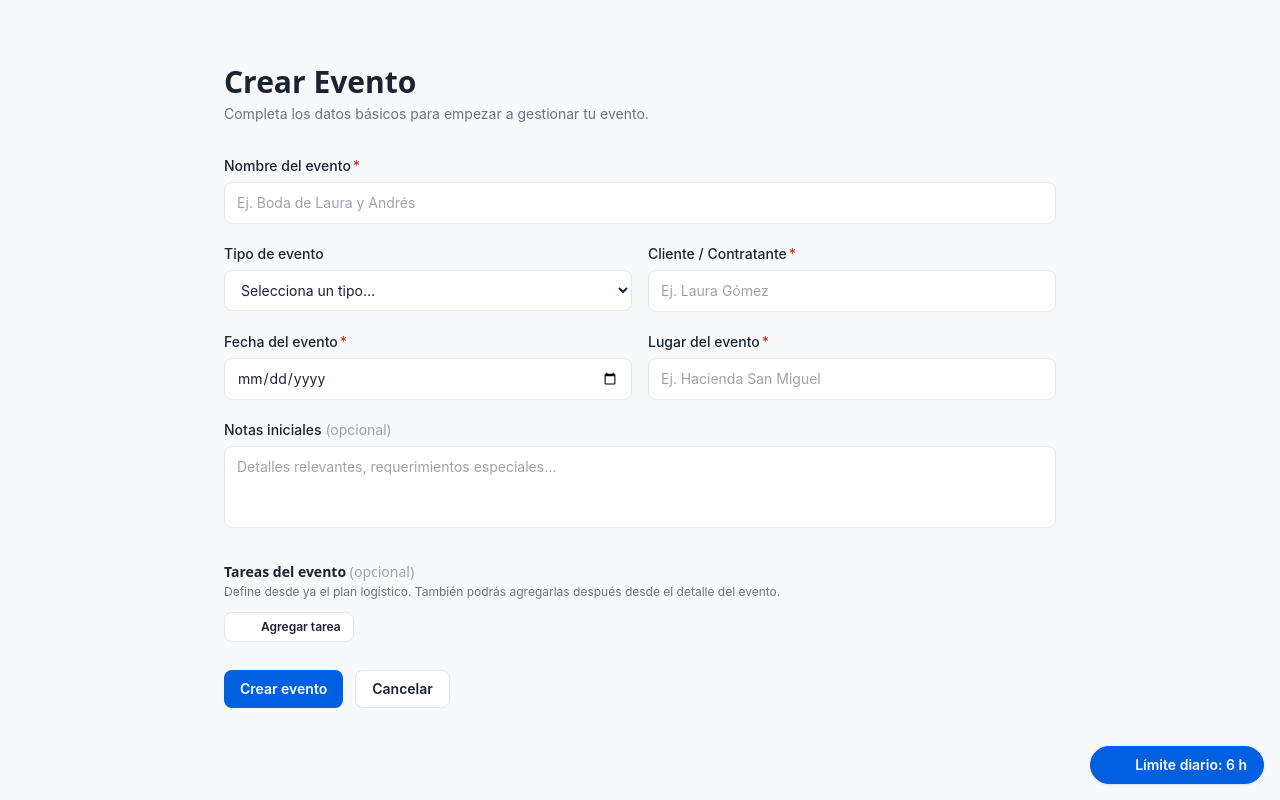
Test: CreatePage › muestra errores de validación devueltos por el backend
In the field labelled "Nombre del evento*": (640, 203) [224,182,1056,224], type "Boda"
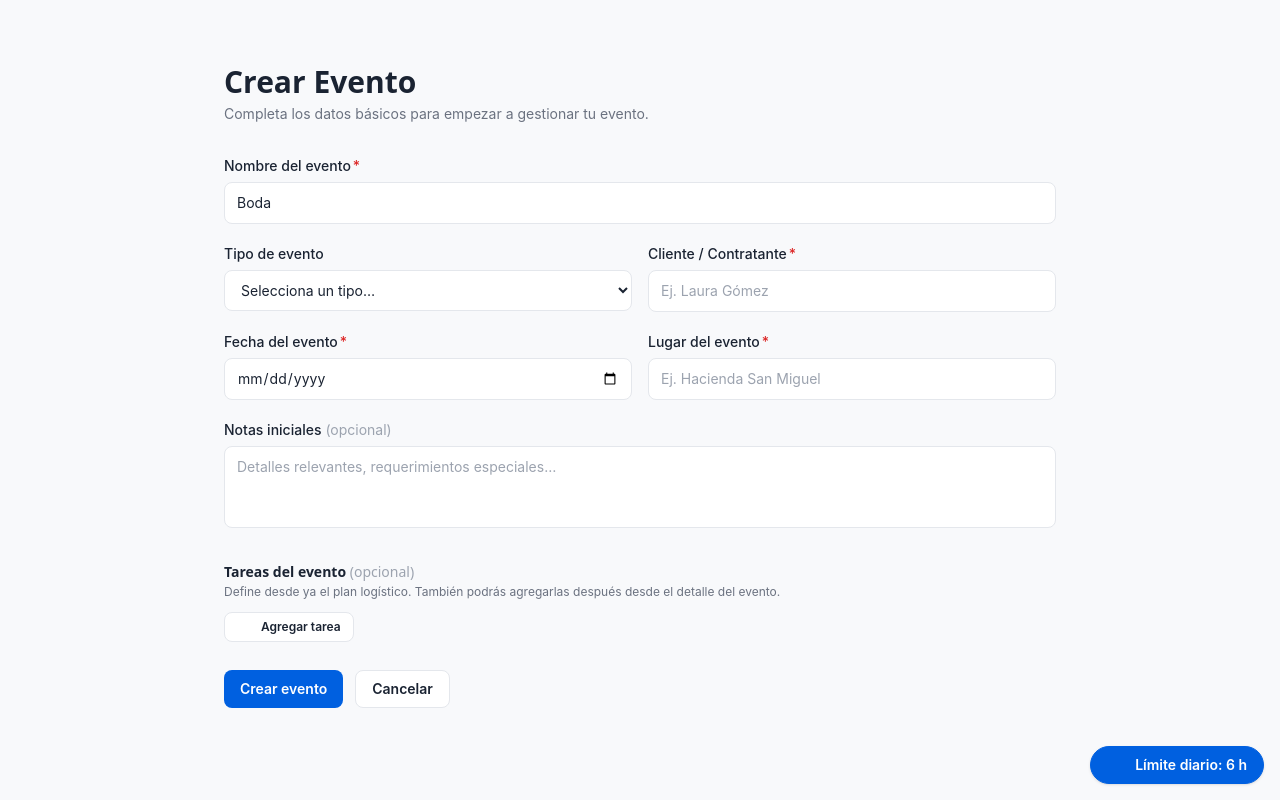
In the field labelled "Cliente / Contratante*": (852, 291) [648,270,1056,312], type "Ana"
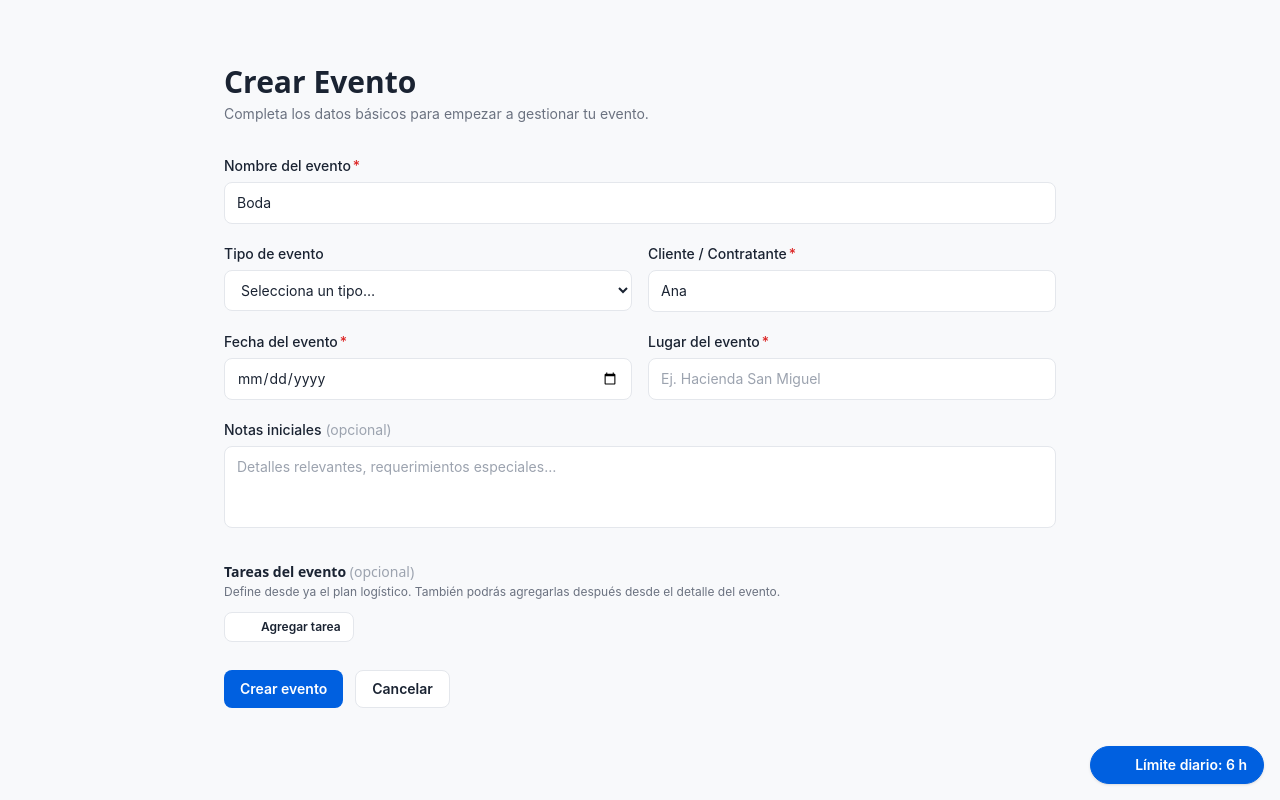
In the date field labelled "Fecha del evento*": (428, 379) [224,358,632,400], type "2099-12-01"
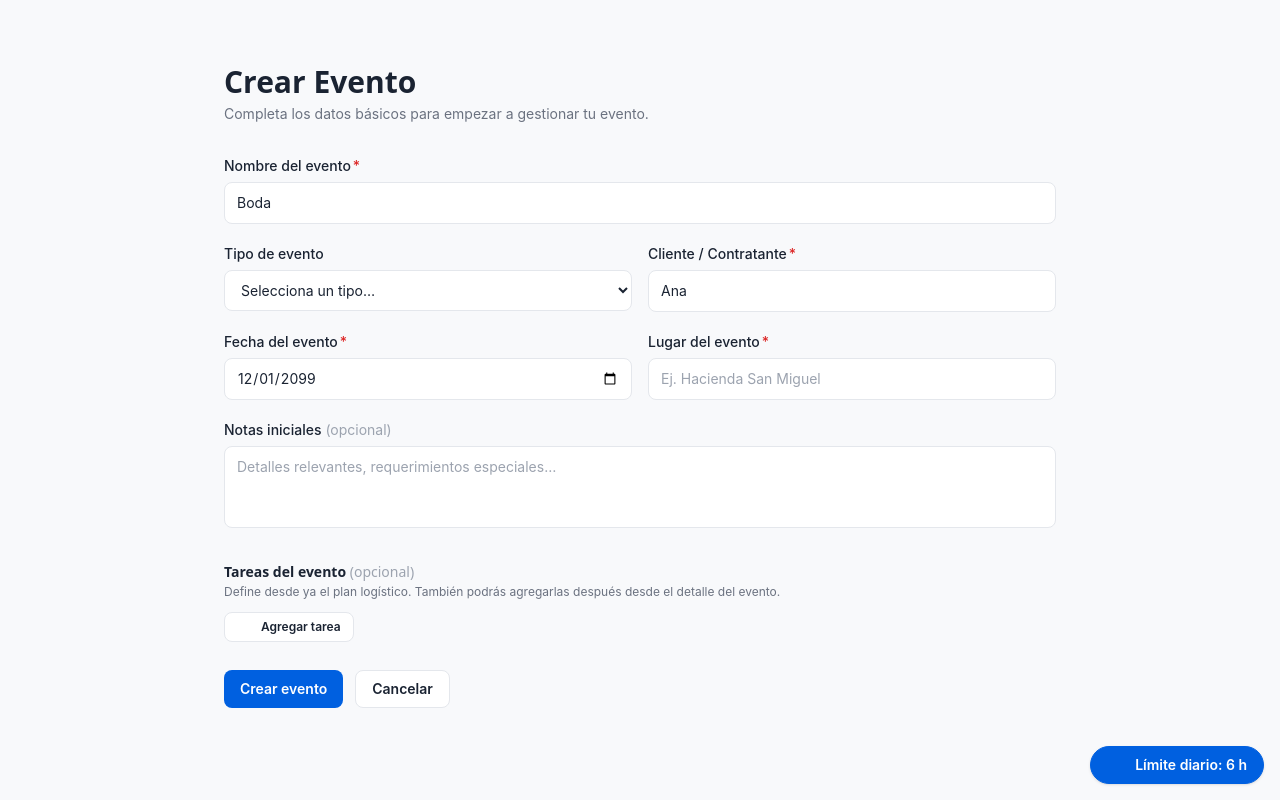
In the field labelled "Lugar del evento*": (852, 379) [648,358,1056,400], type "Hacienda"
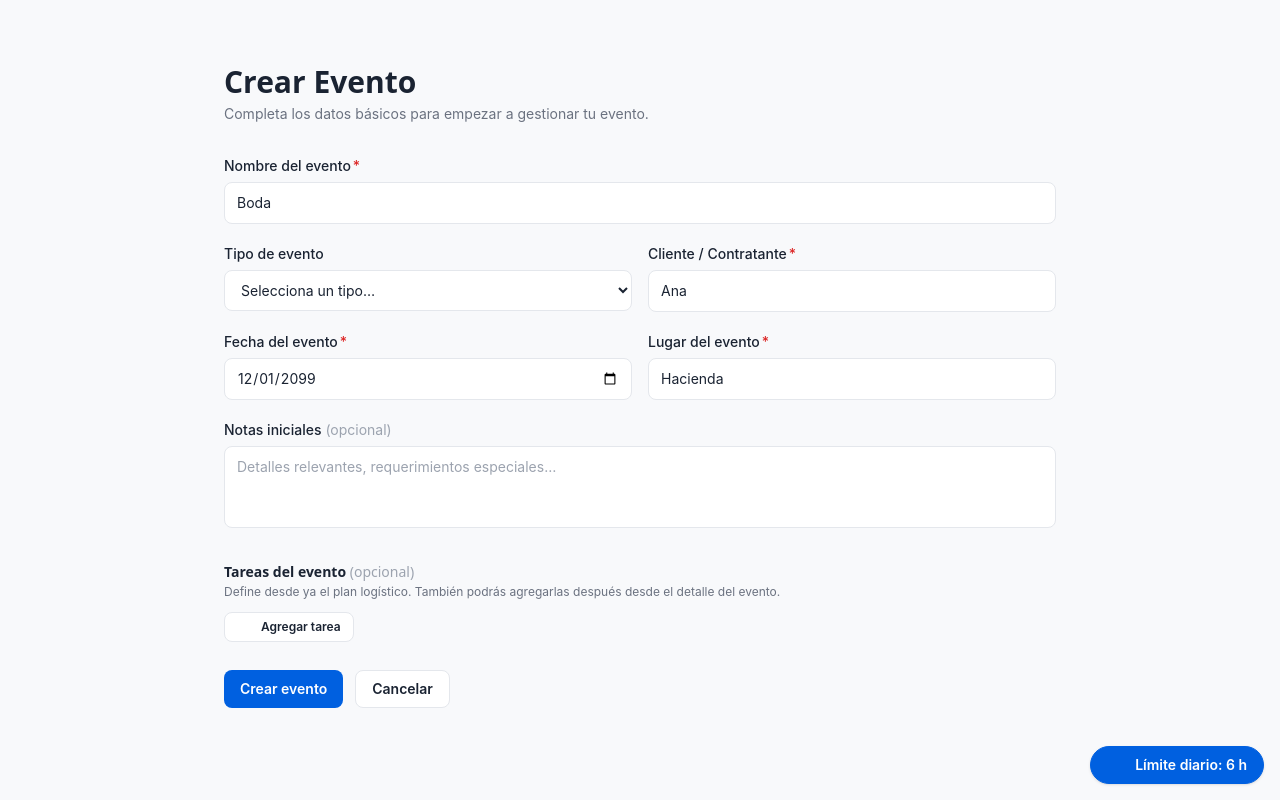
Click the button "Crear evento": (284, 689) [224,670,343,708]
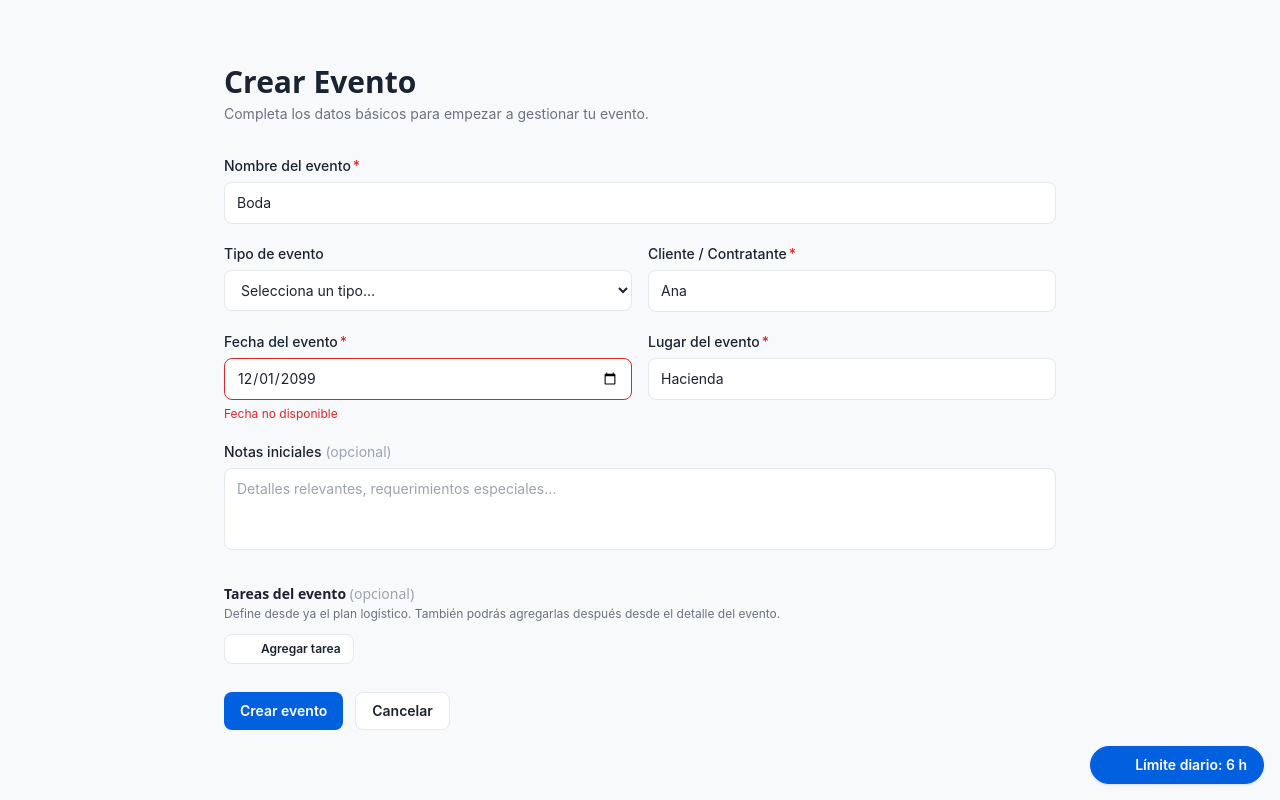
Result: the text "Fecha no disponible" is shown at [224,406,338,421]
